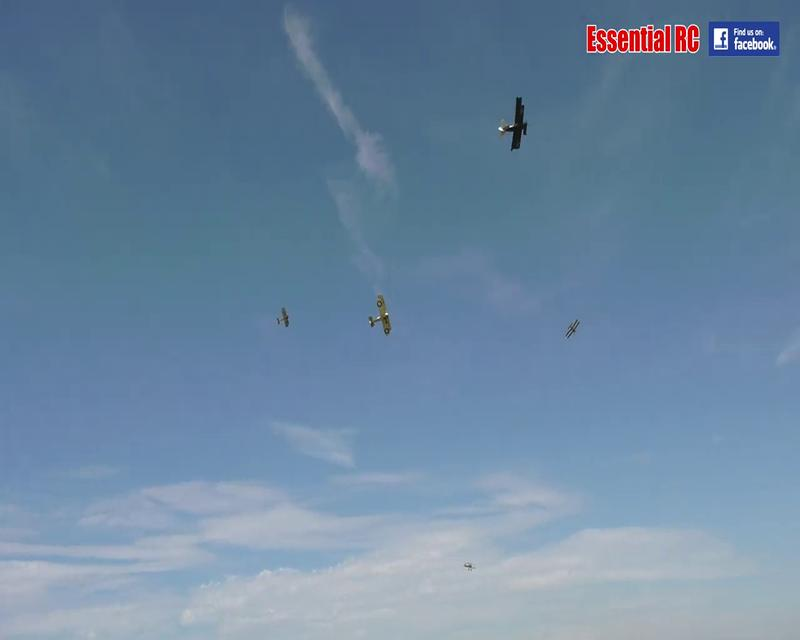UAV: (498, 97, 530, 152), (368, 294, 396, 336), (562, 319, 582, 340), (274, 308, 292, 328)
